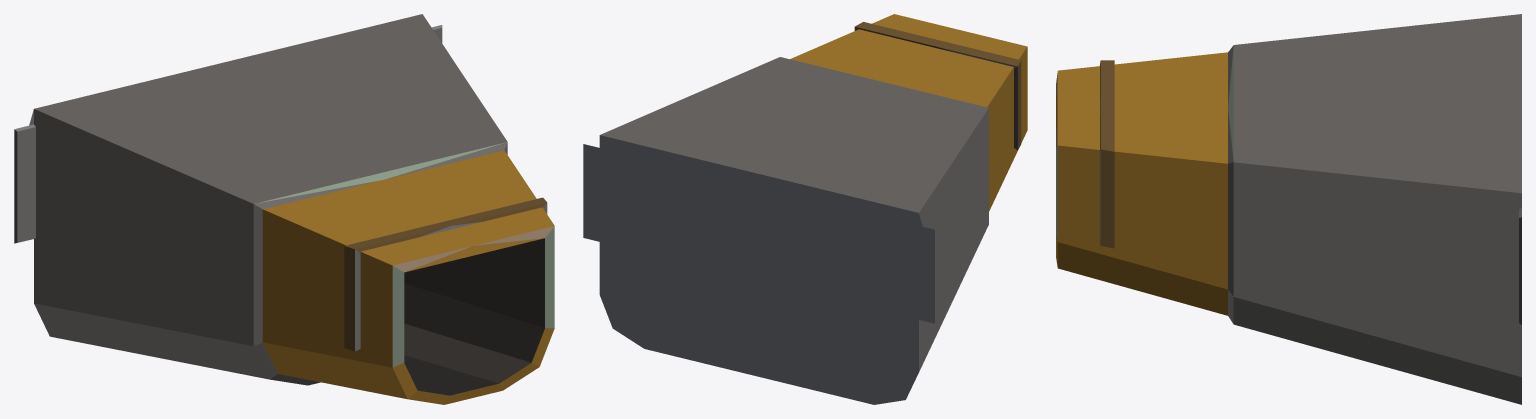
File: tail.glb
3 renders of one model, left to right at view 1: azimuth 30°, elevation 25°; view 2: azimuth 150°, elevation 25°; view 3: azimuth 270°, elevation 25°, orthographic. The views are drawn at different scales.
Bounding box in the file's own units: 0.5061 × 0.2791 × 0.5045.
